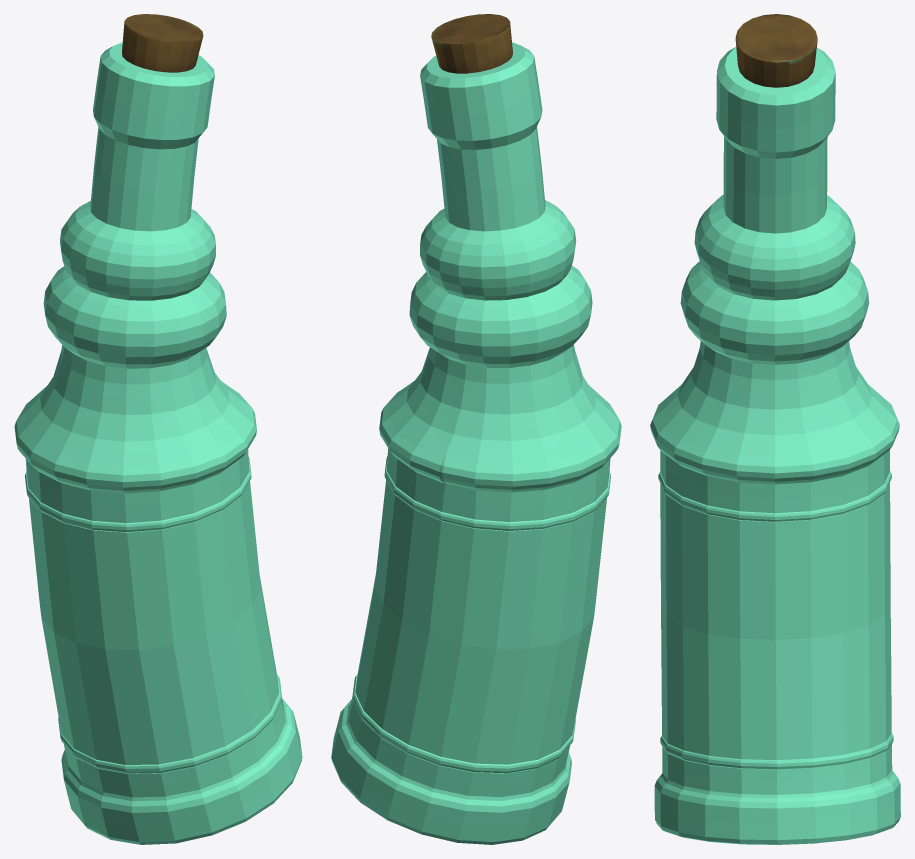
Rendered from bend_low_1.obj.
3 views of the same model, side by side, from view 1: azimuth 30°, elevation 25°; view 2: azimuth 150°, elevation 25°; view 3: azimuth 270°, elevation 25° (orthographic). The views are drawn at different scales.
Visible parts, largest first — view 1: model; view 2: model; view 3: model.
Part boxes in pixels (<box>): model: <box>14,14,302,844</box>; model: <box>331,14,621,844</box>; model: <box>650,14,900,844</box>.
Bounding box in the file's own units: 0.0882 × 0.2587 × 0.0727.
Materials: 1 (1 with a texture image).
